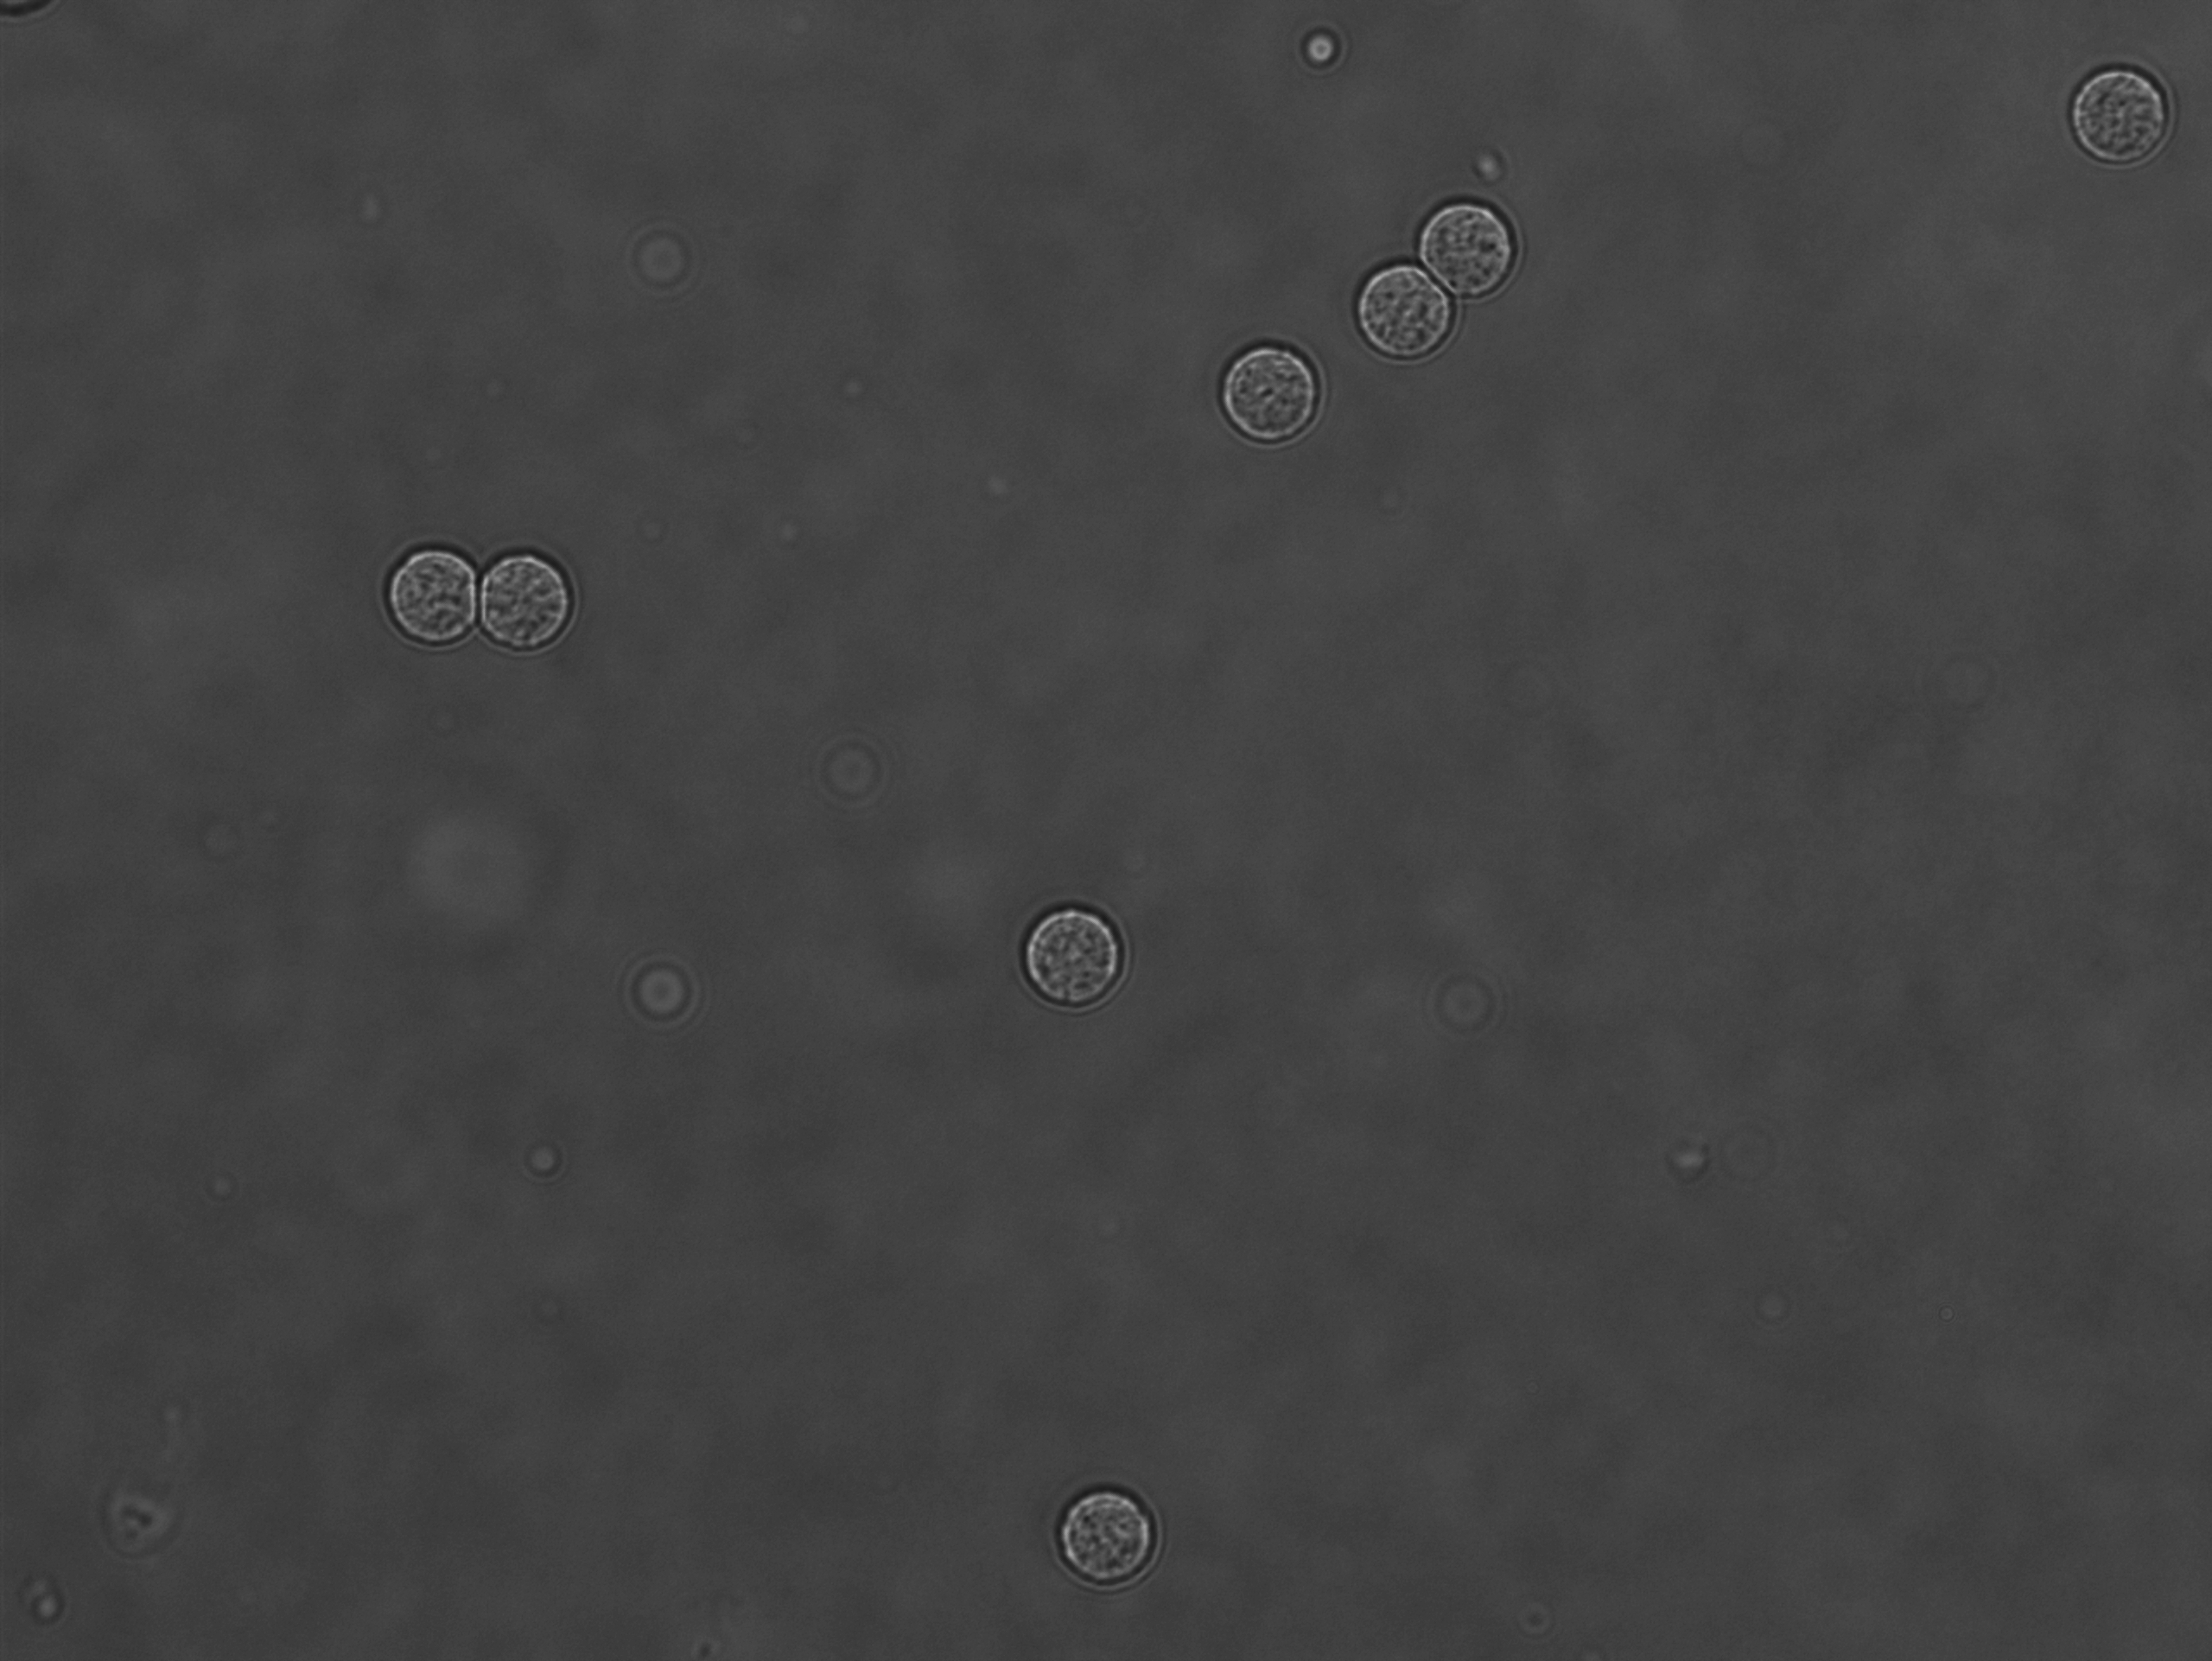depth:0: (448, 523, 625, 691), (2058, 24, 2207, 208), (340, 525, 502, 668), (989, 876, 1137, 1021), (1047, 1455, 1186, 1602), (1404, 183, 1542, 323), (1195, 340, 1329, 468), (1319, 260, 1457, 382)
